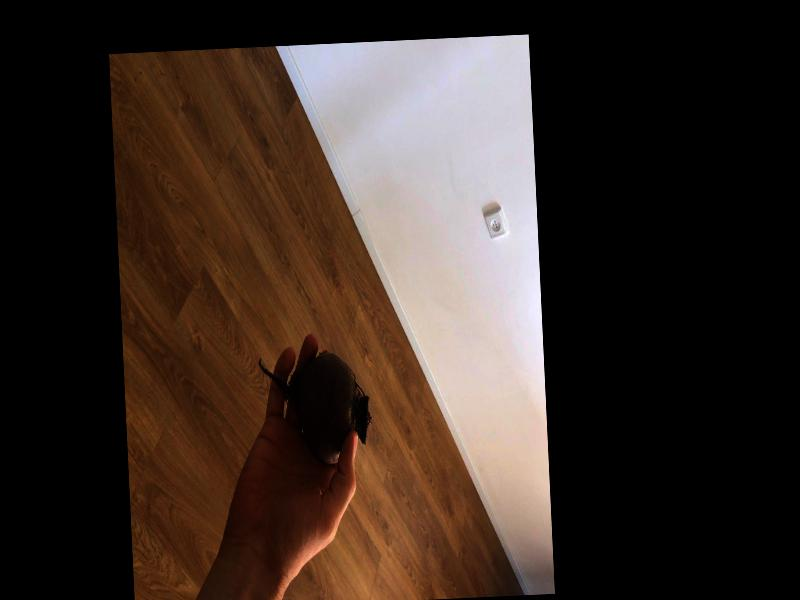Beet: (257, 348, 370, 467)
